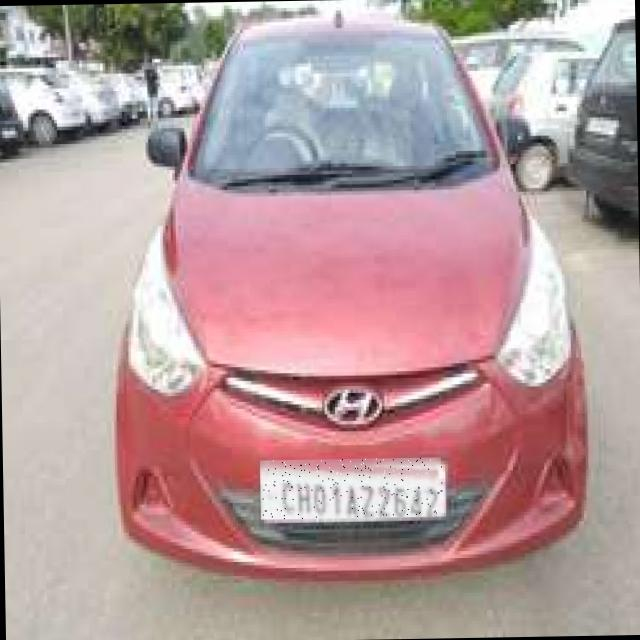Plate: (261, 458, 444, 520)
